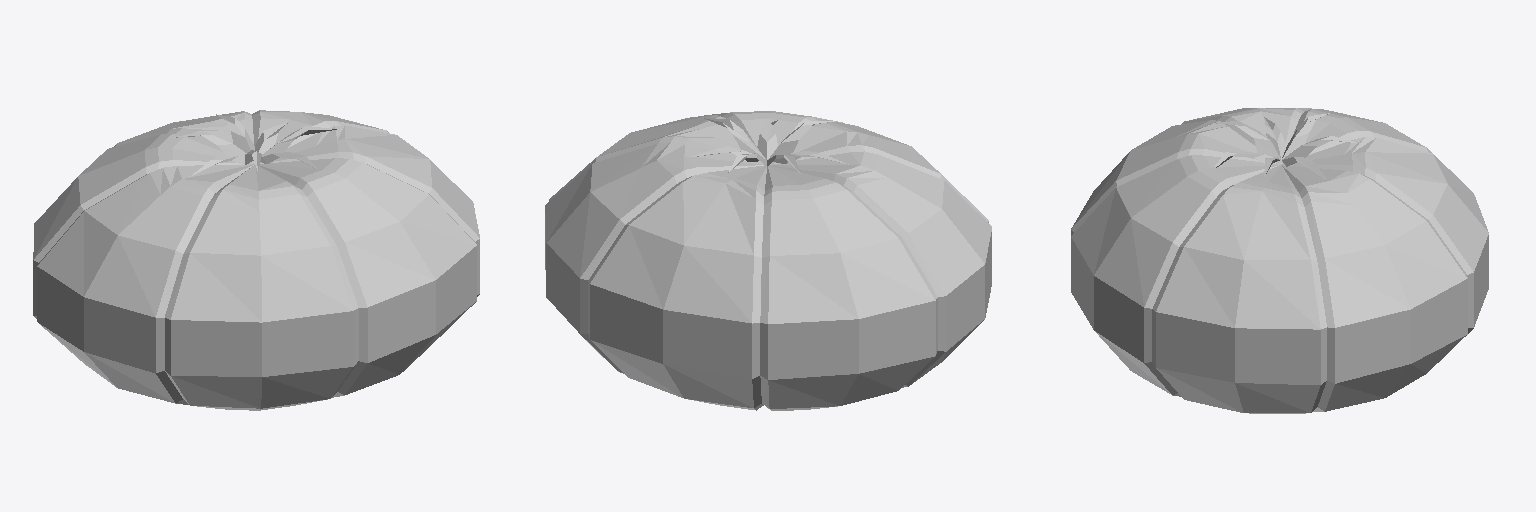
Rendered from Tomato.obj.
The picture shows the model from 3 angles: view 1: azimuth 30°, elevation 25°; view 2: azimuth 150°, elevation 25°; view 3: azimuth 270°, elevation 25°; orthographic projection.
Parts seen in each view (by area): view 1: Tomato; view 2: Tomato; view 3: Tomato.
Boxes of the visible parts, <box> form: Tomato: <box>33,110,479,410</box>; Tomato: <box>545,111,991,410</box>; Tomato: <box>1071,108,1488,413</box>.
Bounding box in the file's own units: 0.1726 × 0.1021 × 0.1575.